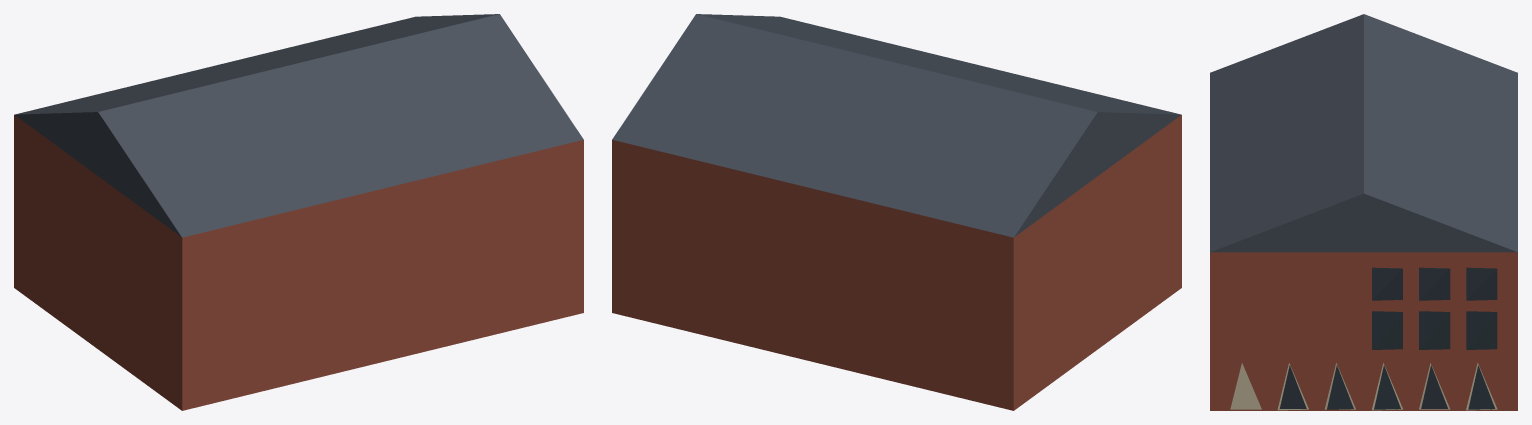
The model's file is kleine-komedie.lod2.glb.
3 views of the same model, side by side, from view 1: azimuth 30°, elevation 25°; view 2: azimuth 150°, elevation 25°; view 3: azimuth 270°, elevation 25° (orthographic). The views are drawn at different scales.
Visible parts, largest first — view 1: lod2; view 2: lod2; view 3: lod2.
Part boxes in pixels (<box>): lod2: <box>14,14,583,410</box>; lod2: <box>612,14,1181,410</box>; lod2: <box>1210,14,1517,410</box>.
Size of the model in its own units: 33.61 by 18.5 by 23.74.
